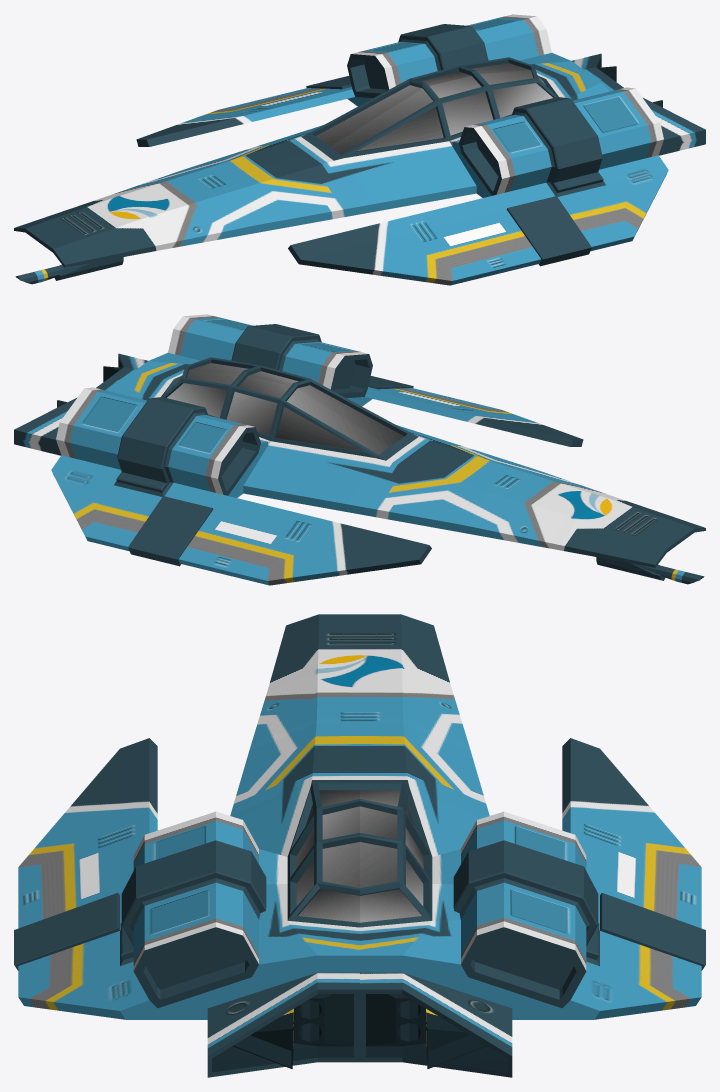
Rendered from SciFi_CR_Ship.FBX.
3 views of the same model, one above another, from view 1: azimuth 30°, elevation 25°; view 2: azimuth 150°, elevation 25°; view 3: azimuth 270°, elevation 25° (orthographic). The views are drawn at different scales.
Parts seen in each view (by area): view 1: SciFi_CR_Ship; view 2: SciFi_CR_Ship; view 3: SciFi_CR_Ship.
Boxes of the visible parts, x1,y1,x2,y2 form: SciFi_CR_Ship: (14, 14, 705, 285); SciFi_CR_Ship: (14, 314, 705, 585); SciFi_CR_Ship: (14, 614, 705, 1077).
Bounding box in the file's own units: 463 × 74.95 × 299.
1 material, 1 textured.
